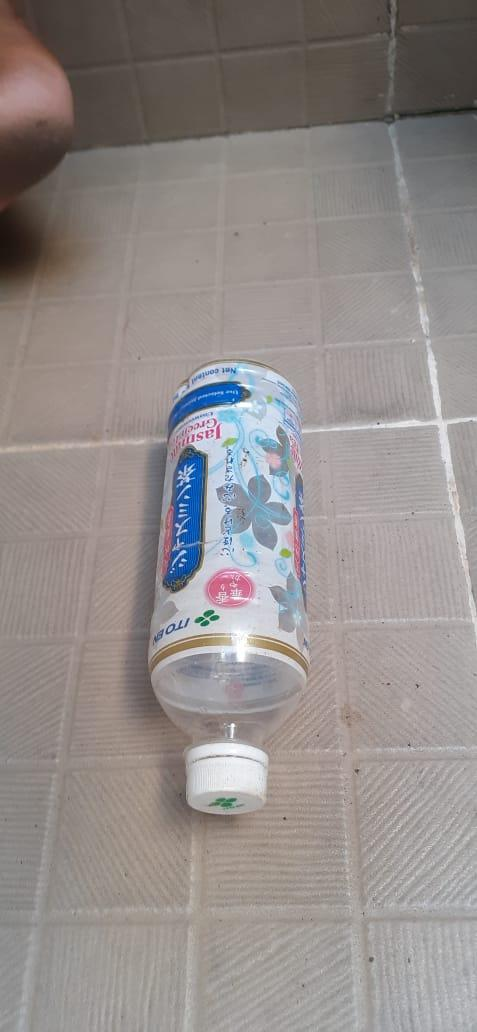Plastik: (147, 358, 312, 817)
